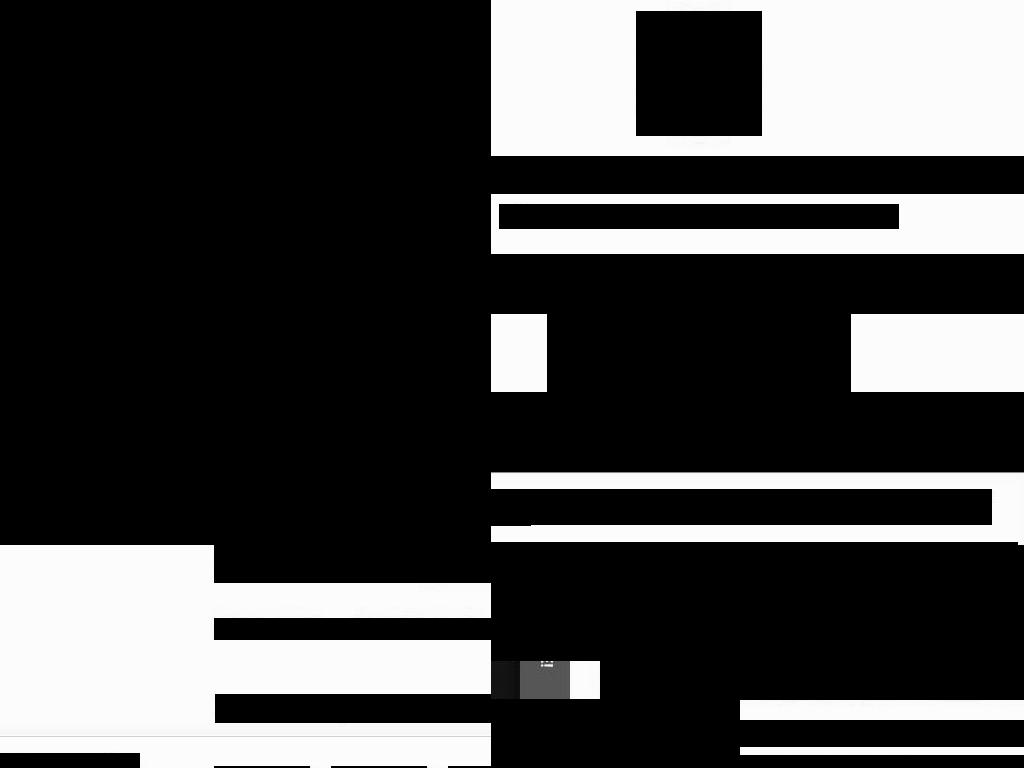button: (0, 60, 244, 487), (0, 280, 164, 425), (221, 35, 341, 155), (284, 175, 438, 238), (1, 278, 231, 318), (1, 328, 231, 368), (284, 427, 364, 508), (384, 390, 491, 444), (458, 192, 491, 322), (63, 529, 219, 545), (0, 516, 63, 545), (170, 420, 242, 440)
field: (1, 228, 231, 268)
heading: (491, 156, 1024, 194), (600, 720, 1024, 747), (499, 204, 899, 229), (284, 176, 432, 237), (215, 694, 491, 723), (214, 618, 491, 640), (384, 391, 491, 443), (87, 30, 145, 60), (83, 530, 196, 545)
iframe: (547, 314, 851, 392), (0, 0, 480, 41)
image: (0, 0, 491, 545), (0, 60, 244, 487), (491, 545, 690, 661), (636, 11, 762, 136), (284, 427, 364, 508), (458, 192, 491, 322), (0, 516, 63, 545)
link: (423, 550, 491, 583), (170, 420, 242, 440)
text: (600, 545, 1024, 700), (491, 392, 1024, 472), (491, 254, 1024, 314), (491, 489, 992, 525), (0, 127, 341, 157), (284, 246, 438, 300), (384, 452, 491, 506), (600, 755, 1024, 768), (0, 172, 251, 193), (241, 68, 321, 122), (0, 420, 167, 440), (244, 87, 491, 97), (491, 510, 531, 526), (284, 320, 307, 336), (384, 526, 407, 542), (0, 753, 21, 768), (530, 509, 535, 525)
